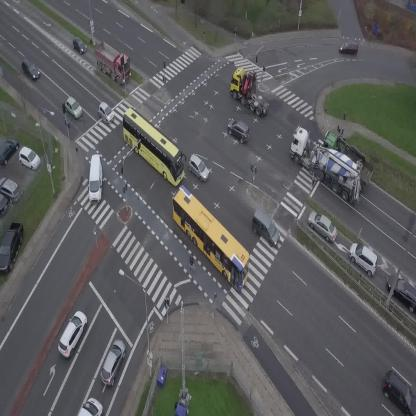bicycle: (186, 254, 197, 275)
bus: (157, 185, 264, 293), (110, 106, 197, 188)
car: (53, 308, 92, 359), (245, 208, 287, 249), (97, 337, 130, 388), (344, 239, 385, 278), (303, 207, 343, 244), (223, 115, 256, 146), (183, 153, 214, 183), (60, 95, 85, 122), (94, 101, 118, 125), (18, 57, 41, 82), (68, 34, 89, 57), (339, 40, 359, 55)
lorry: (278, 123, 378, 208), (320, 124, 381, 191), (222, 61, 283, 119), (86, 36, 140, 87), (88, 154, 105, 204), (78, 398, 102, 416)
